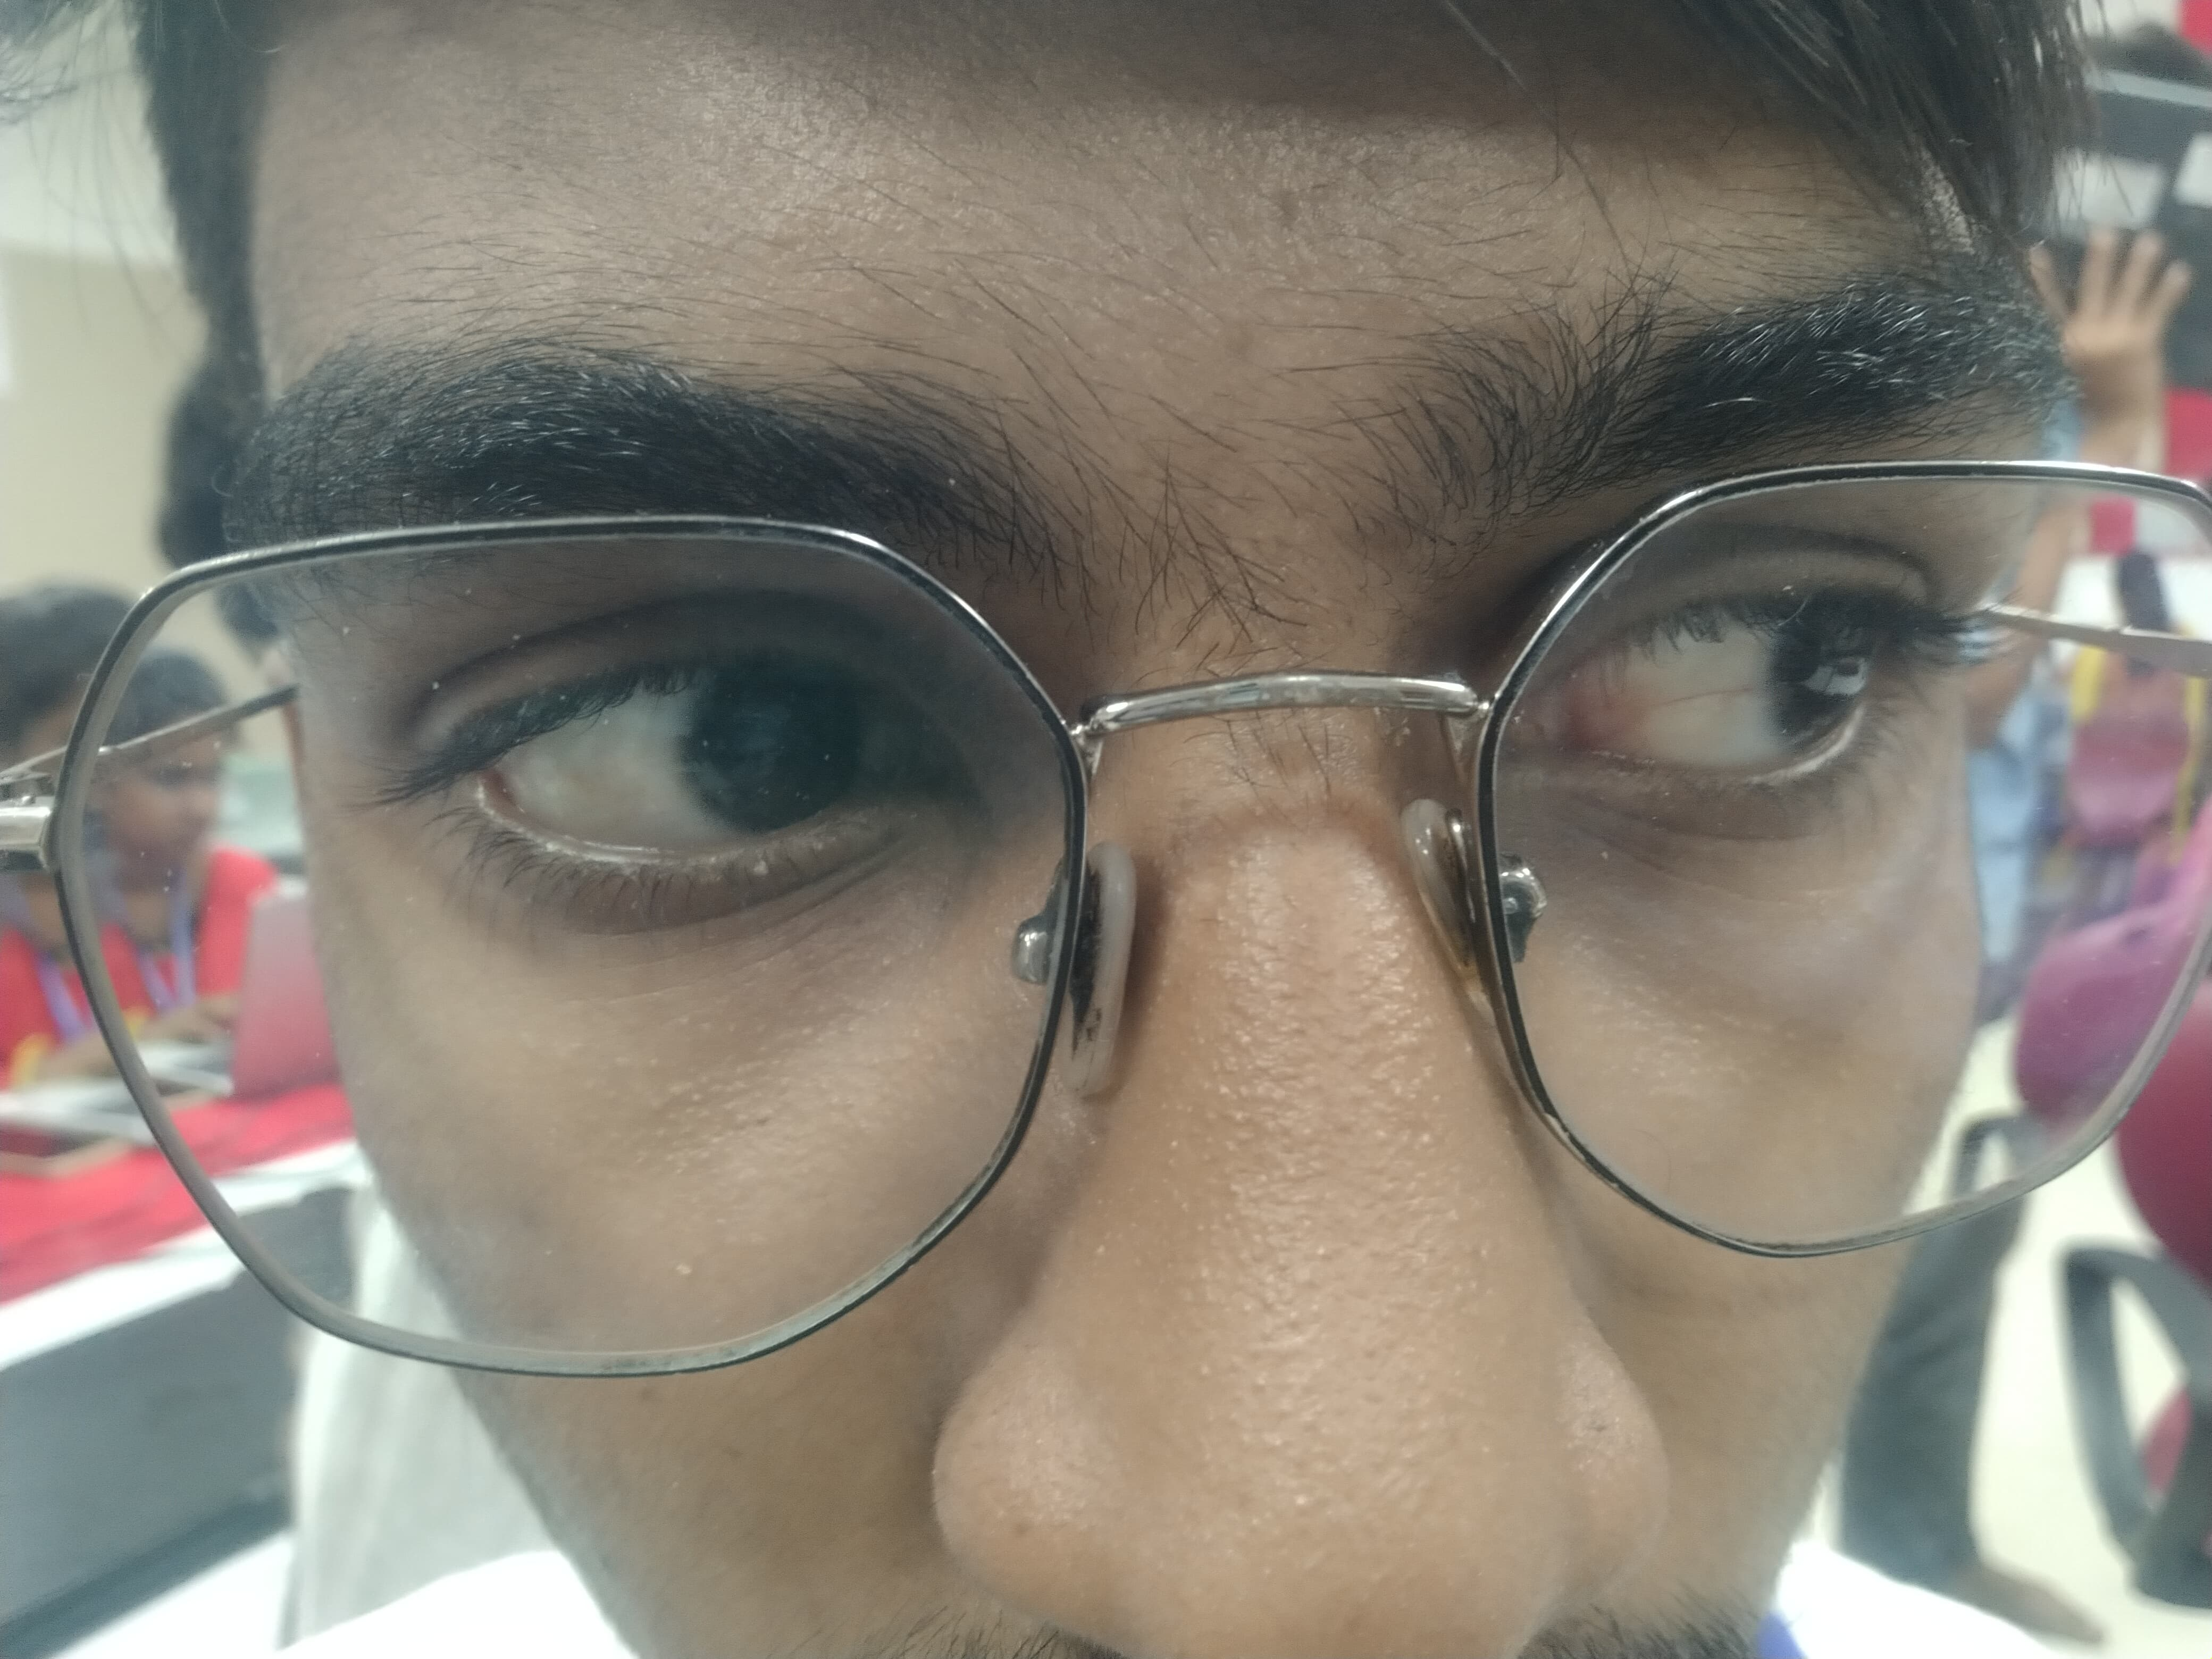EYE LEFT: (35, 291, 1162, 1403), (1296, 291, 2189, 1424)
